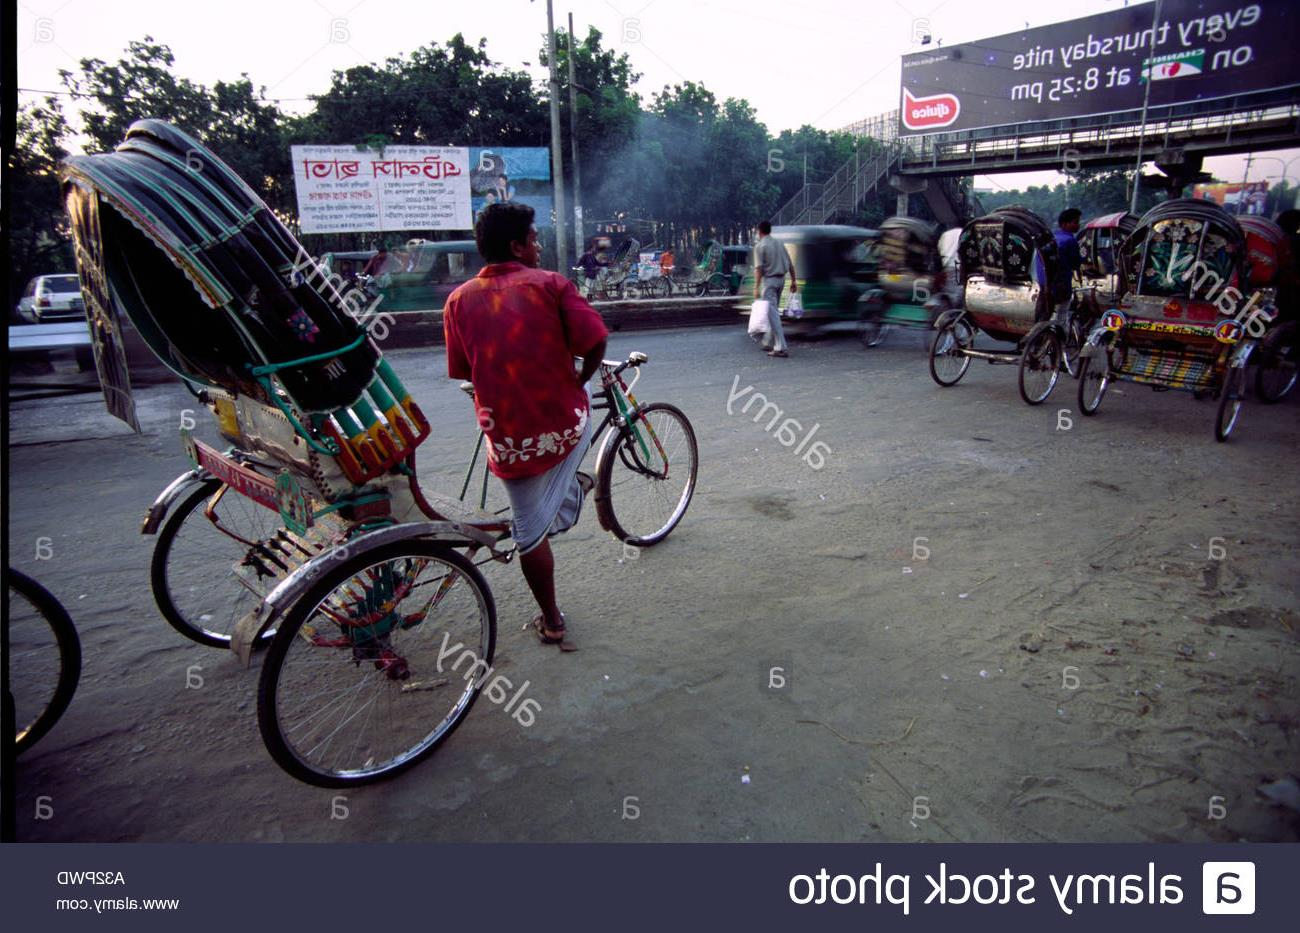Rickshaw: (51, 104, 713, 789), (1099, 193, 1244, 439), (918, 190, 1069, 422), (1059, 197, 1125, 318), (1236, 202, 1283, 290)
